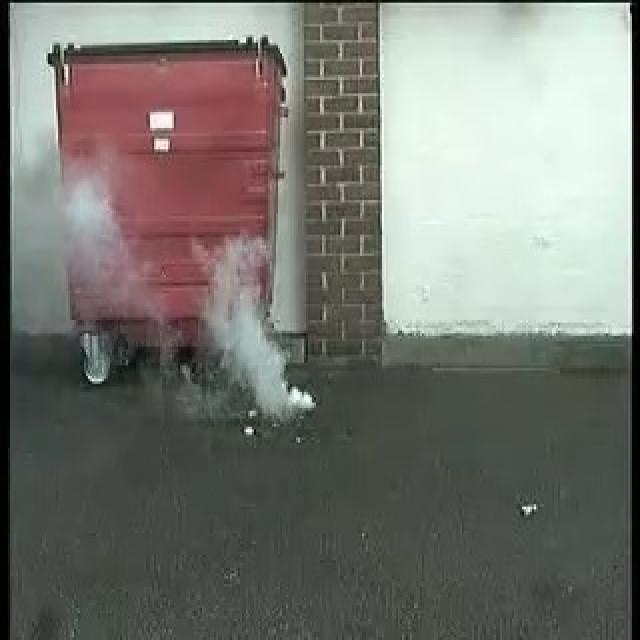smoke: (206, 238, 313, 418)
